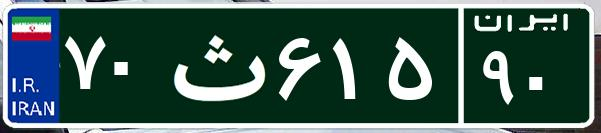0: (110, 28, 158, 105), (525, 38, 570, 115)
1: (330, 28, 385, 110)
5: (385, 28, 445, 110)
6: (273, 28, 330, 110)
7: (57, 26, 110, 107)
9: (475, 38, 525, 113)
ث: (158, 15, 273, 115)
